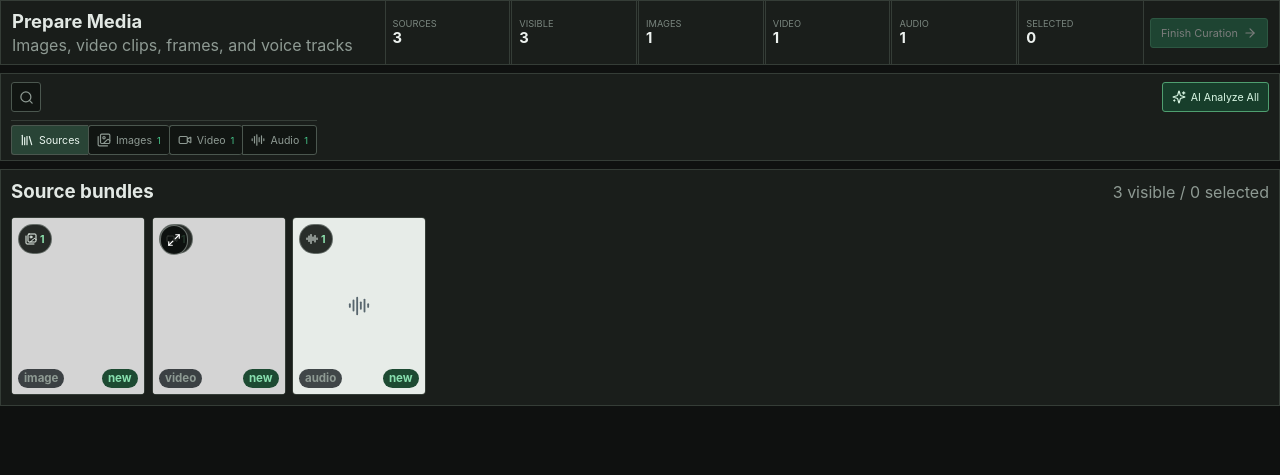
Test: CurateSearchTab › searches imported media by path and metadata
Click the button named "Open media search": click(26, 97) [11, 82, 41, 112]
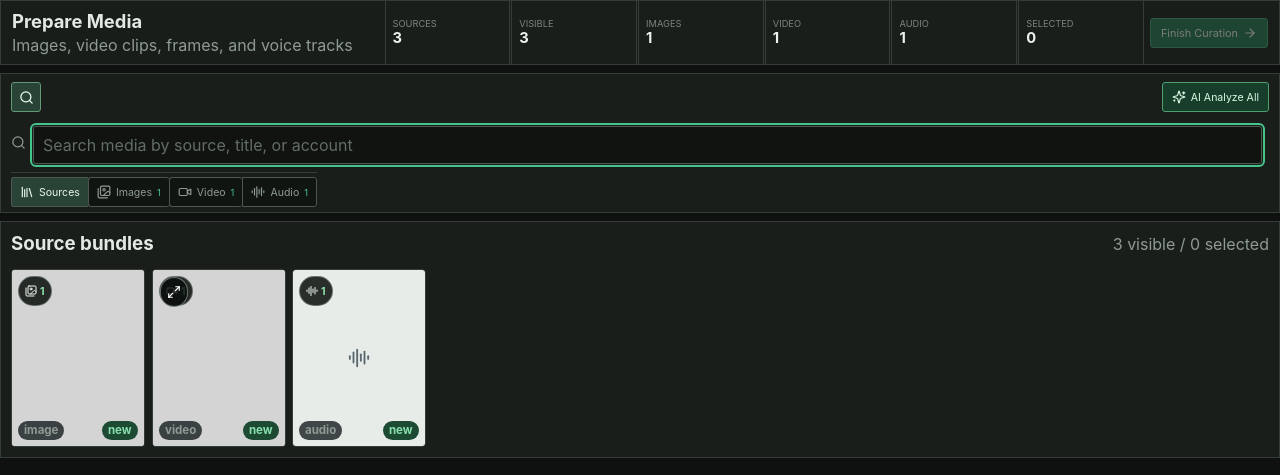
In the field labelled "Search media": (648, 145) [33, 126, 1262, 164], type "MarySue"
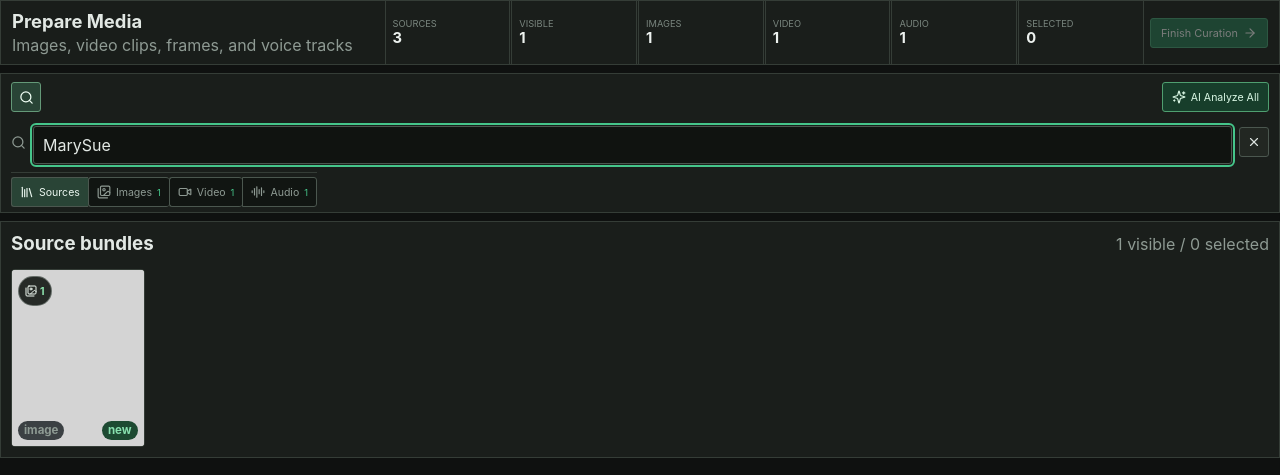
expect the text "1 visible" is shown: met, box [1116, 234, 1175, 254]
